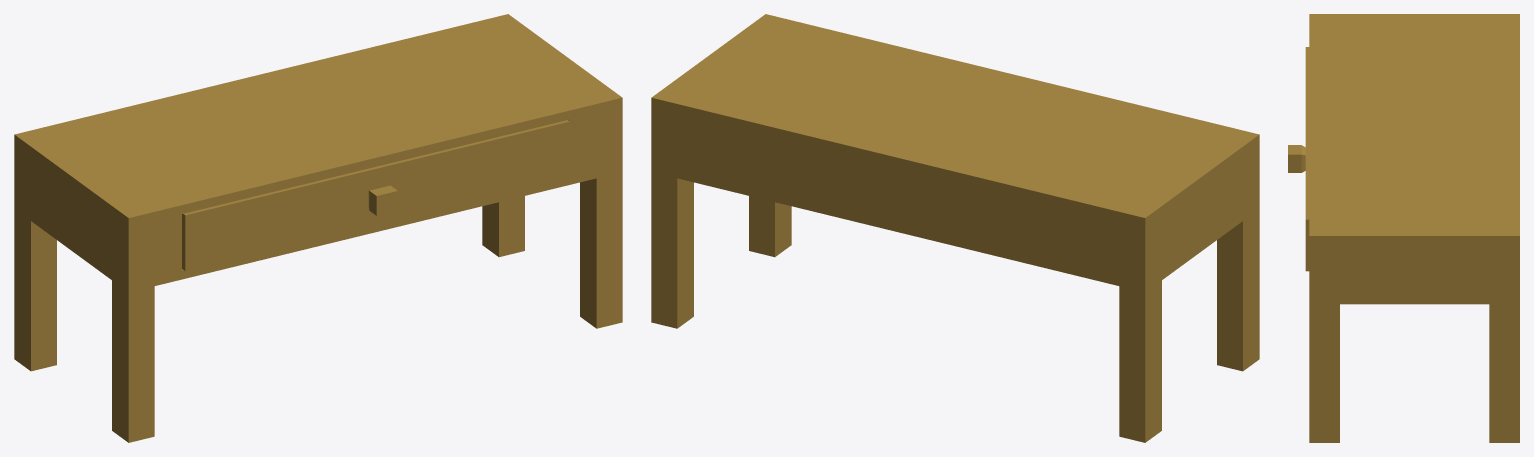
The model's file is MejaLaci.fbx.
3 views of the same model, side by side, from view 1: azimuth 30°, elevation 25°; view 2: azimuth 150°, elevation 25°; view 3: azimuth 270°, elevation 25° (orthographic). The views are drawn at different scales.
Parts seen in each view (by area): view 1: Cube.024, Cube.025; view 2: Cube.024; view 3: Cube.024, Cube.025.
Part boxes in pixels (x1,y1,x2,y2): Cube.024: [14, 14, 622, 442]; Cube.025: [182, 120, 569, 271]; Cube.024: [651, 14, 1259, 442]; Cube.024: [1309, 14, 1519, 442]; Cube.025: [1288, 47, 1309, 271].
Bounding box in the file's own units: 499 × 217 × 220.
